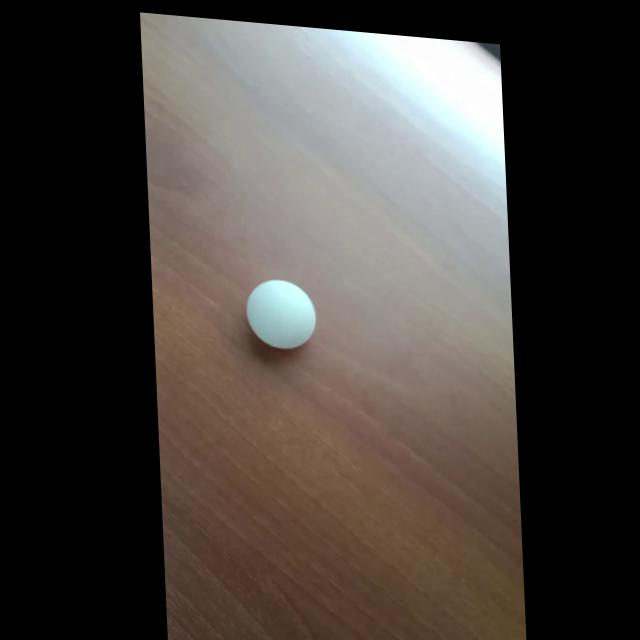white ball: (244, 276, 317, 352)
